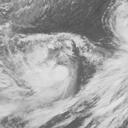cyclone: (3, 31, 78, 125), (102, 0, 127, 56)
